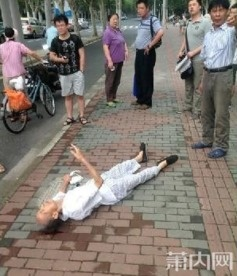falling: (28, 133, 184, 237)
